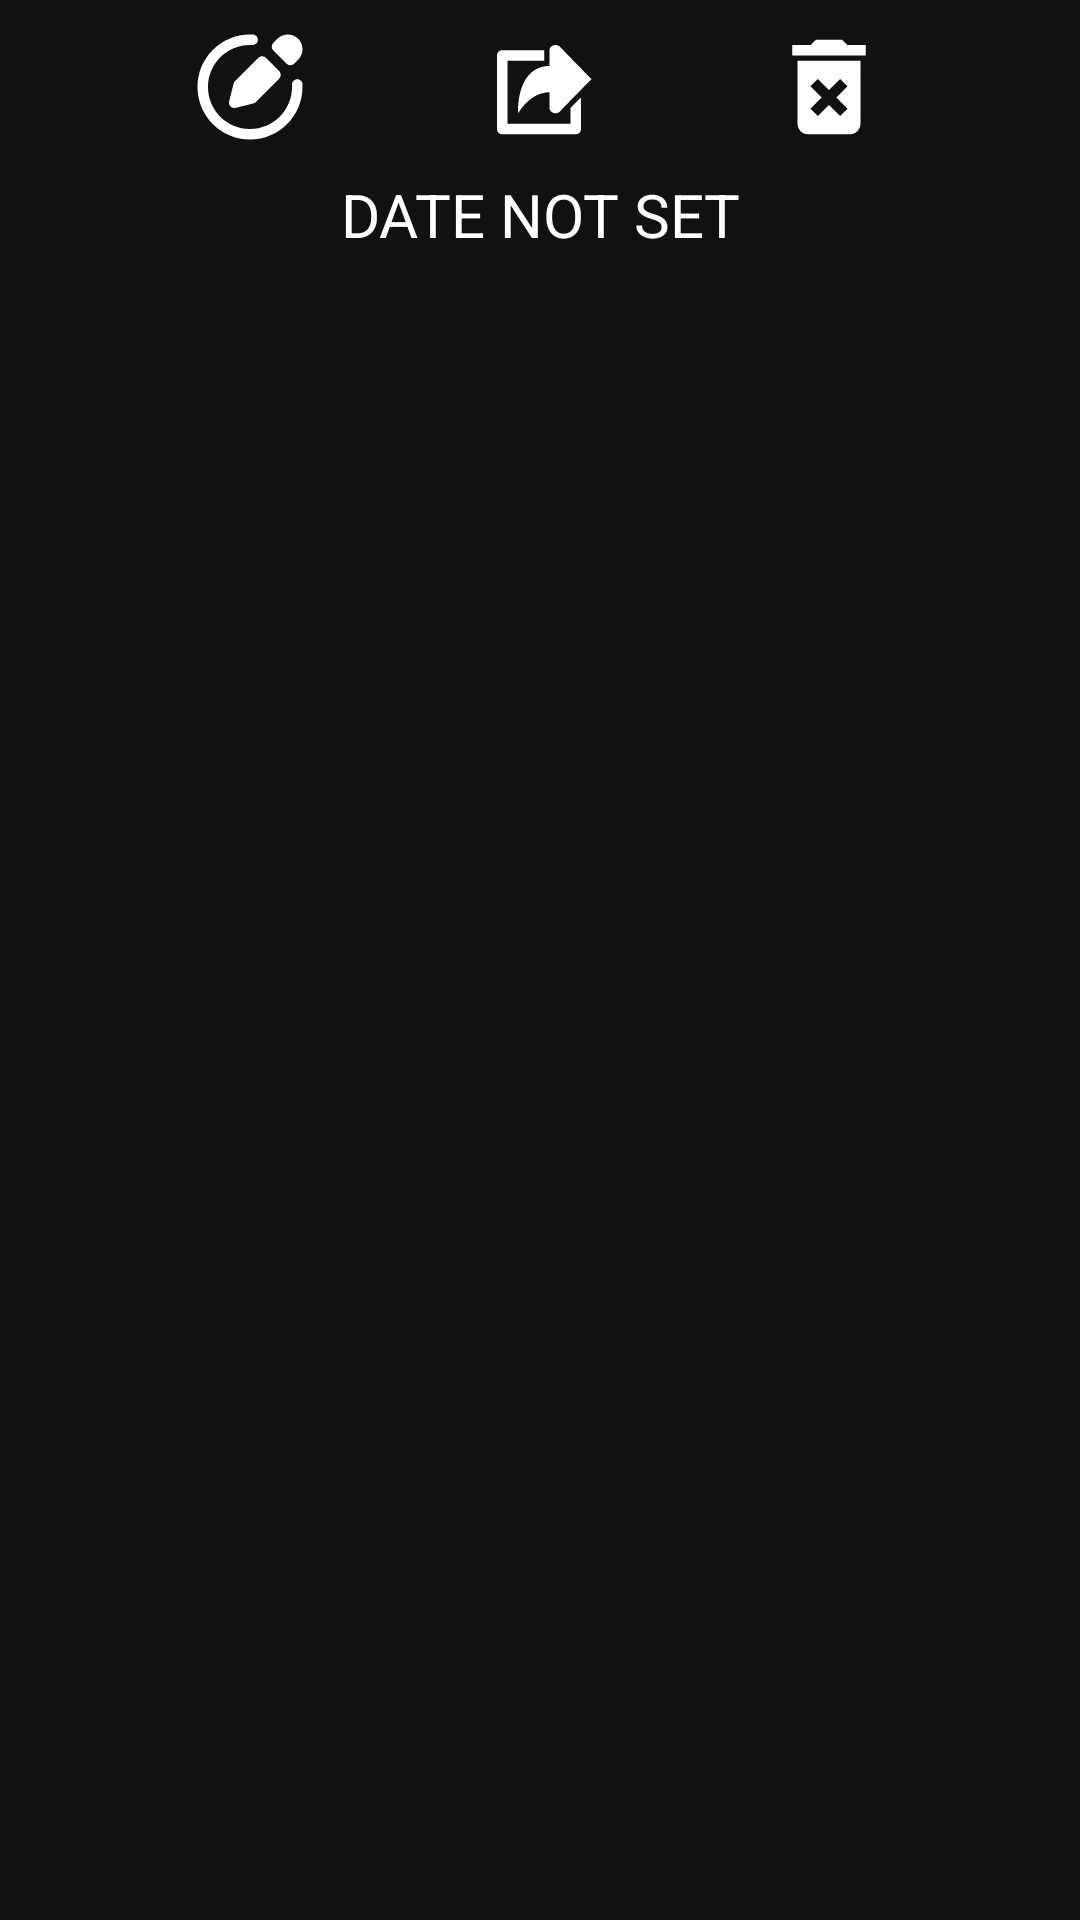

Icon bounding boxes for this 1080*1920 phone screenshot, format bbox(x1, y1, x2, y2):
delete: bbox(792, 39, 866, 135)
edit: bbox(197, 34, 303, 140)
export: bbox(497, 45, 592, 135)
